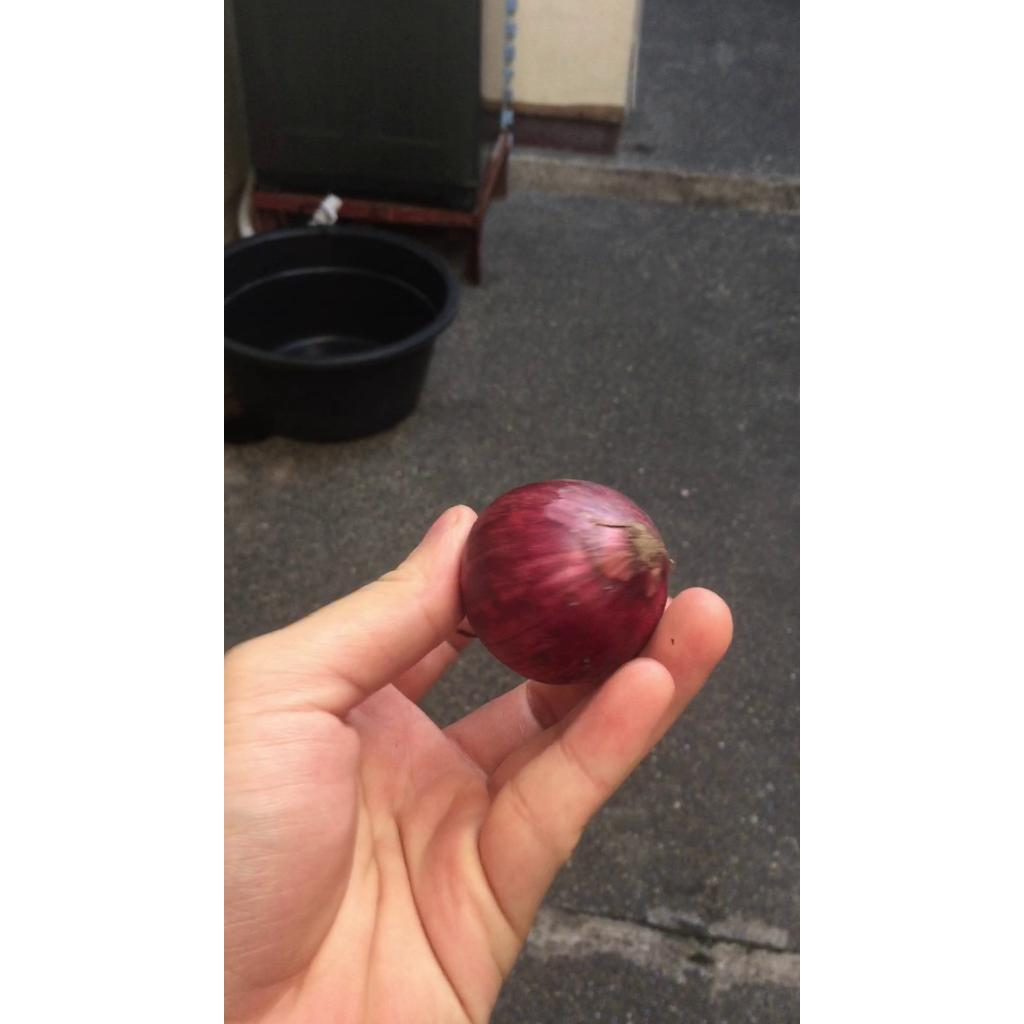Onion: (460, 481, 669, 685)
